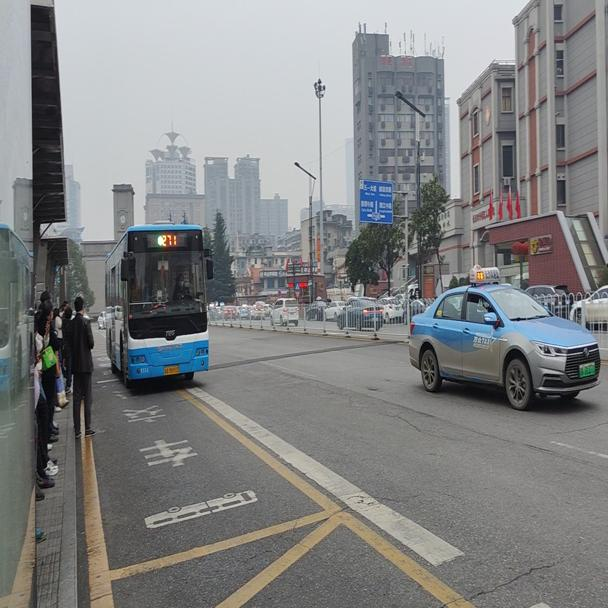bus: (104, 220, 210, 380)
screen: (162, 230, 178, 247)
